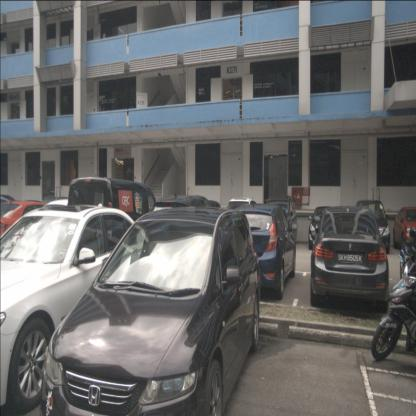vehicle-car: (40, 206, 260, 416), (0, 204, 164, 416), (66, 176, 163, 272), (310, 205, 389, 315), (223, 204, 296, 300), (0, 200, 73, 271), (353, 199, 390, 254), (260, 195, 298, 248), (220, 197, 260, 244), (308, 206, 340, 250), (400, 223, 416, 309), (393, 206, 415, 253)
vehicle-motorcycle: (370, 238, 416, 362)
